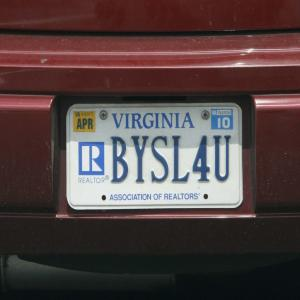Vehicle-registration-plate: (66, 103, 244, 211)
